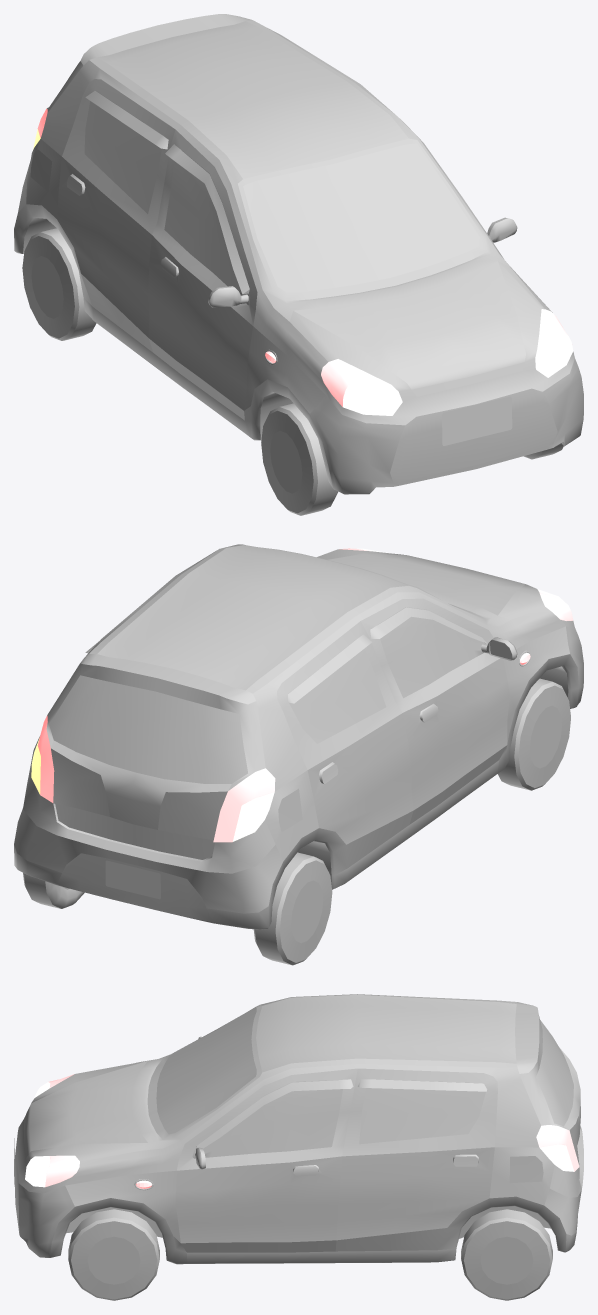
The model's file is car.fbx.
3 views of the same model, one above another, from view 1: azimuth 30°, elevation 25°; view 2: azimuth 150°, elevation 25°; view 3: azimuth 270°, elevation 25° (orthographic). The views are drawn at different scales.
Visible parts, largest first — view 1: body_car, tireFR, tireBR, headlight, number_plate, sideLightRight; view 2: body_car, tireBR, tireFR, brakeLight, sideLightRight, number_plate, tireBL; view 3: body_car, tireBL, tireFL, sideLightLeft, brakeLight, headlight.
Part boxes in pixels (x1,y1,x2,y2): body_car: (14,14,583,494); tireFR: (261,403,338,515); tireBR: (22,228,96,340); headlight: (343,330,573,415); number_plate: (442,396,512,445); sideLightRight: (33,129,370,406); body_car: (14,544,583,929); tireBR: (253,852,332,965); tireFR: (498,678,570,790); brakeLight: (37,715,275,842); sideLightRight: (232,592,573,841); number_plate: (105,860,160,899); tireBL: (23,873,84,908); body_car: (14,994,583,1264); tireBL: (461,1209,552,1300); tireFL: (68,1209,159,1300); sideLightLeft: (45,1144,574,1188); brakeLight: (536,1125,579,1171); headlight: (25,1082,50,1187).
Bounding box in the file's own units: 1.81 × 1.55 × 3.53.
